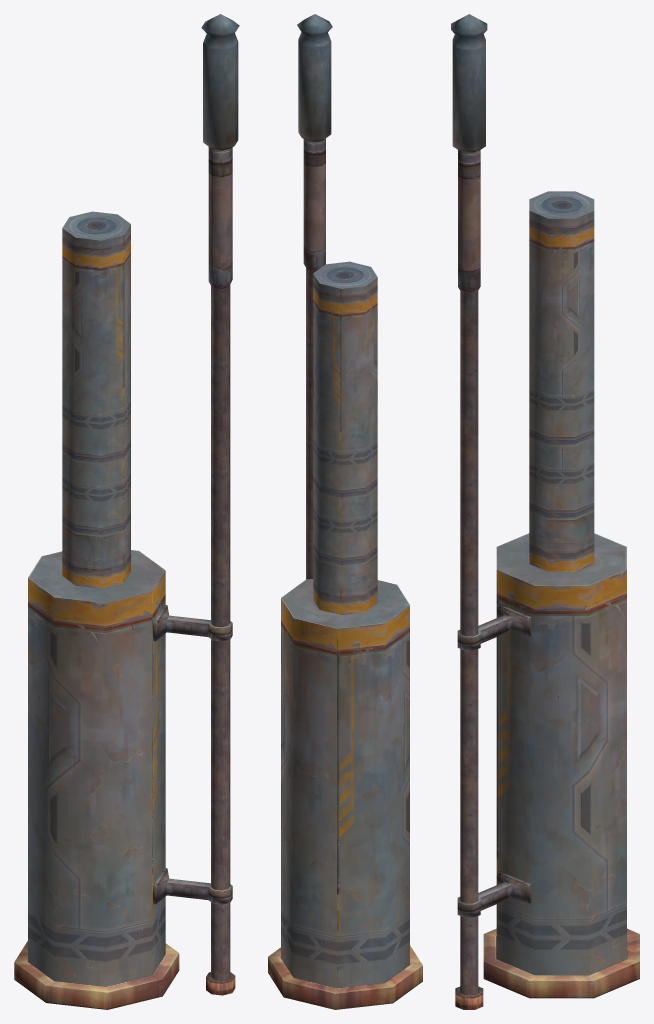
The model's file is all_arch_und_house_exhaust.glb.
3 renders of one model, left to right at view 1: azimuth 30°, elevation 25°; view 2: azimuth 150°, elevation 25°; view 3: azimuth 270°, elevation 25°, orthographic. The views are drawn at different scales.
Visible parts, largest first — view 1: all_arch_und_house_exhaust; view 2: all_arch_und_house_exhaust; view 3: all_arch_und_house_exhaust.
Boxes of the visible parts, bbox=[...] form: all_arch_und_house_exhaust: bbox=[14, 14, 239, 1009]; all_arch_und_house_exhaust: bbox=[268, 14, 422, 1009]; all_arch_und_house_exhaust: bbox=[451, 14, 639, 1009].
Bounding box in the file's own units: 0.1928 × 1.12 × 0.1936.
Materials: 1 (1 with a texture image).
